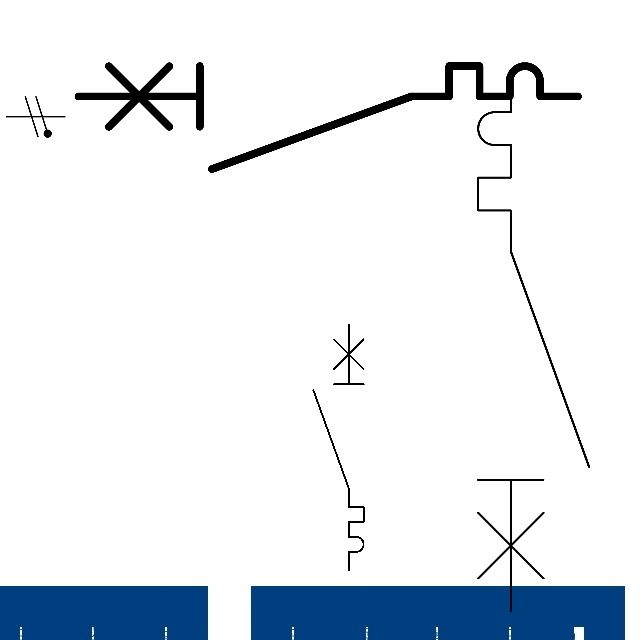interruptor_termomagnetico: (464, 57, 603, 624), (65, 53, 591, 181), (307, 318, 370, 577)
